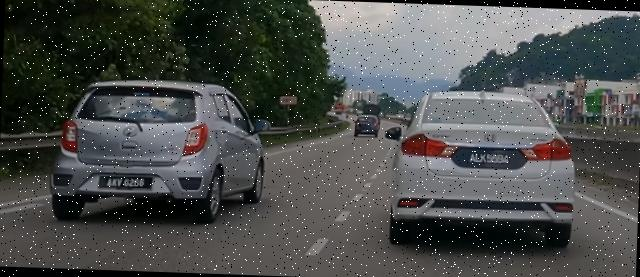License_Plate: (98, 174, 153, 191), (465, 151, 516, 167)
car: (48, 76, 271, 228), (381, 86, 579, 251), (353, 115, 381, 138)
